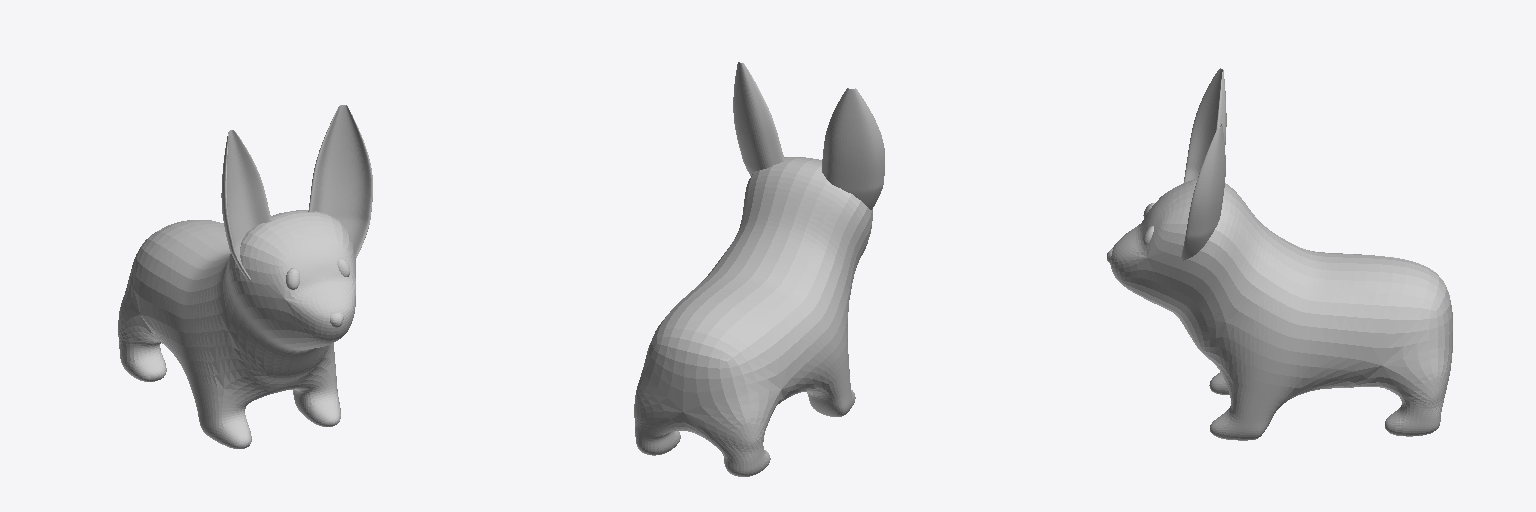
Rendered from Corgi3.obj.
The picture shows the model from 3 angles: view 1: azimuth 30°, elevation 25°; view 2: azimuth 150°, elevation 25°; view 3: azimuth 270°, elevation 25°; orthographic projection.
Visible parts, largest first — view 1: Body1_Cube.001, R_ear_Cube, L_ear_Cube.005; view 2: Body1_Cube.001, L_ear_Cube.005, R_ear_Cube; view 3: Body1_Cube.001, R_ear_Cube, L_ear_Cube.005.
Boxes of the visible parts, <box> form: Body1_Cube.001: <box>118,210,355,448</box>; R_ear_Cube: <box>308,105,372,257</box>; L_ear_Cube.005: <box>221,130,271,281</box>; Body1_Cube.001: <box>634,157,872,476</box>; L_ear_Cube.005: <box>822,88,884,209</box>; R_ear_Cube: <box>733,62,784,175</box>; Body1_Cube.001: <box>1110,178,1452,440</box>; R_ear_Cube: <box>1181,124,1225,260</box>; L_ear_Cube.005: <box>1184,68,1226,182</box>.
Size of the model in its own units: 2.19 by 4.54 by 4.46.